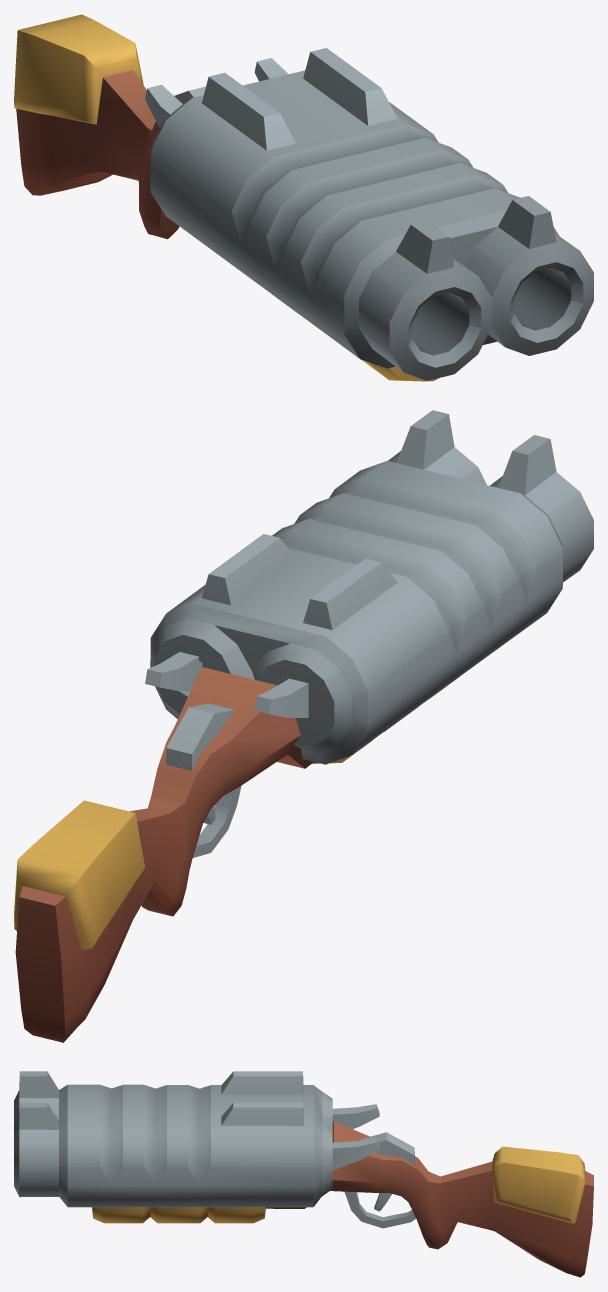
File: w_shotgun.glb
3 renders of one model, top to bottom at view 1: azimuth 30°, elevation 25°; view 2: azimuth 150°, elevation 25°; view 3: azimuth 270°, elevation 25°, orthographic. The views are drawn at different scales.
Visible parts, largest first — view 1: shotgun; view 2: shotgun; view 3: shotgun.
Boxes of the visible parts, <box> form: shotgun: <box>14,14,593,381</box>; shotgun: <box>14,410,593,1042</box>; shotgun: <box>14,1071,593,1277</box>.
Size of the model in its own units: 0.4594 by 0.5817 by 1.67.
1 material, 1 textured.
